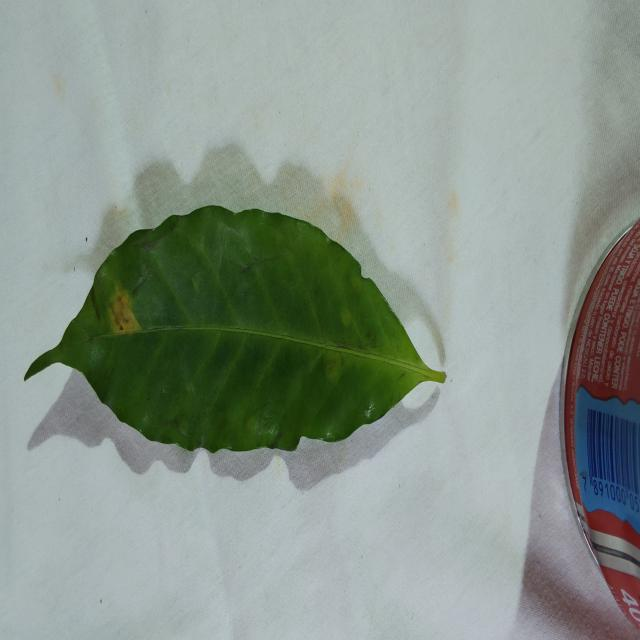Enfermedad-Roya: (23, 205, 446, 456)
